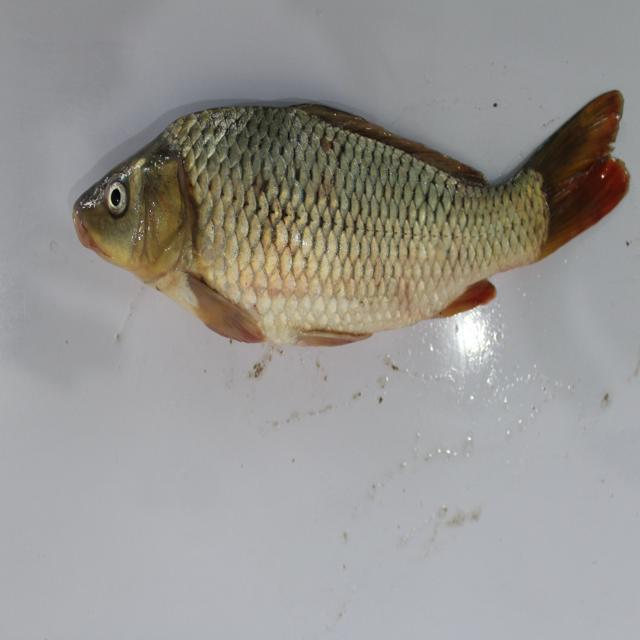CommonCarp: (84, 86, 630, 380)
